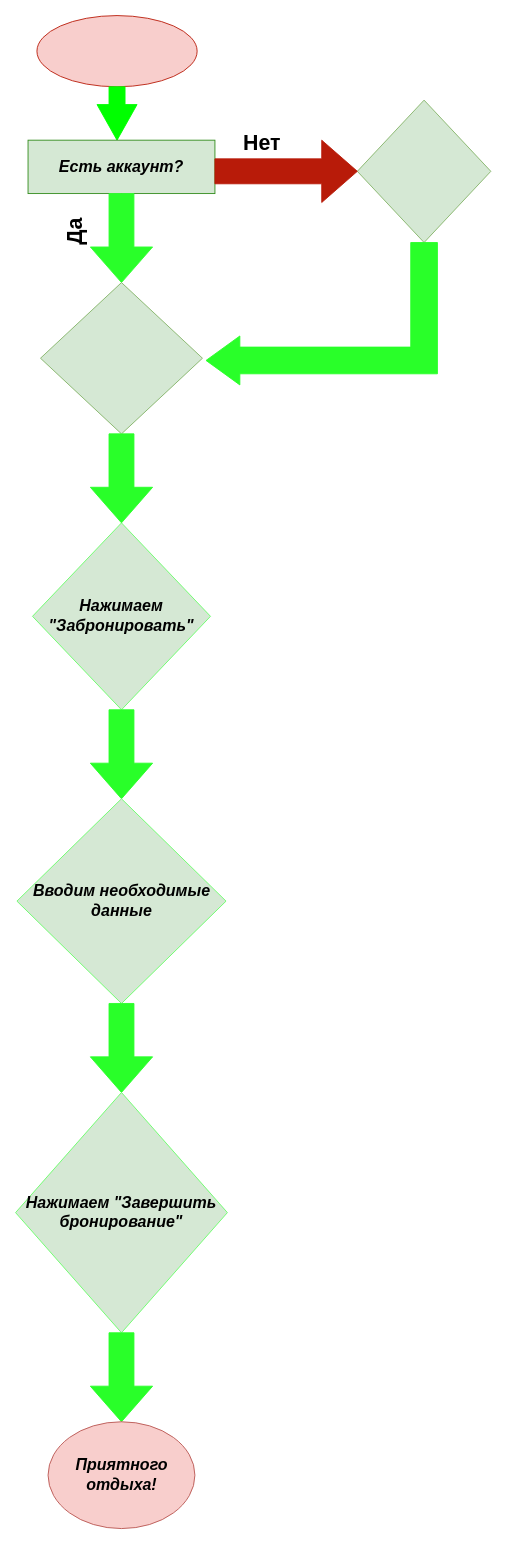
The diagram is 506 pixels wide and 1544 high, and some of its shapes have lost their labels. Here are the shapes that lost their labels. From the top down, the centre of each, then its label:
[116,51]: Заходим на сайт booking.com
[423,171]: Регистрируемся
[121,358]: Ищем отель в нужно городе
